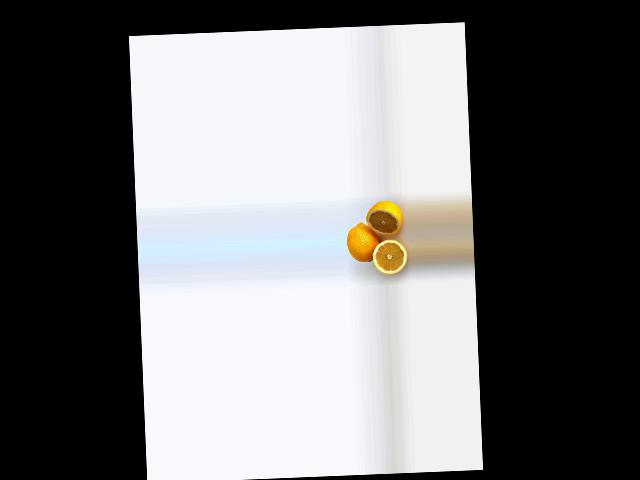lemon: (345, 218, 379, 266)
